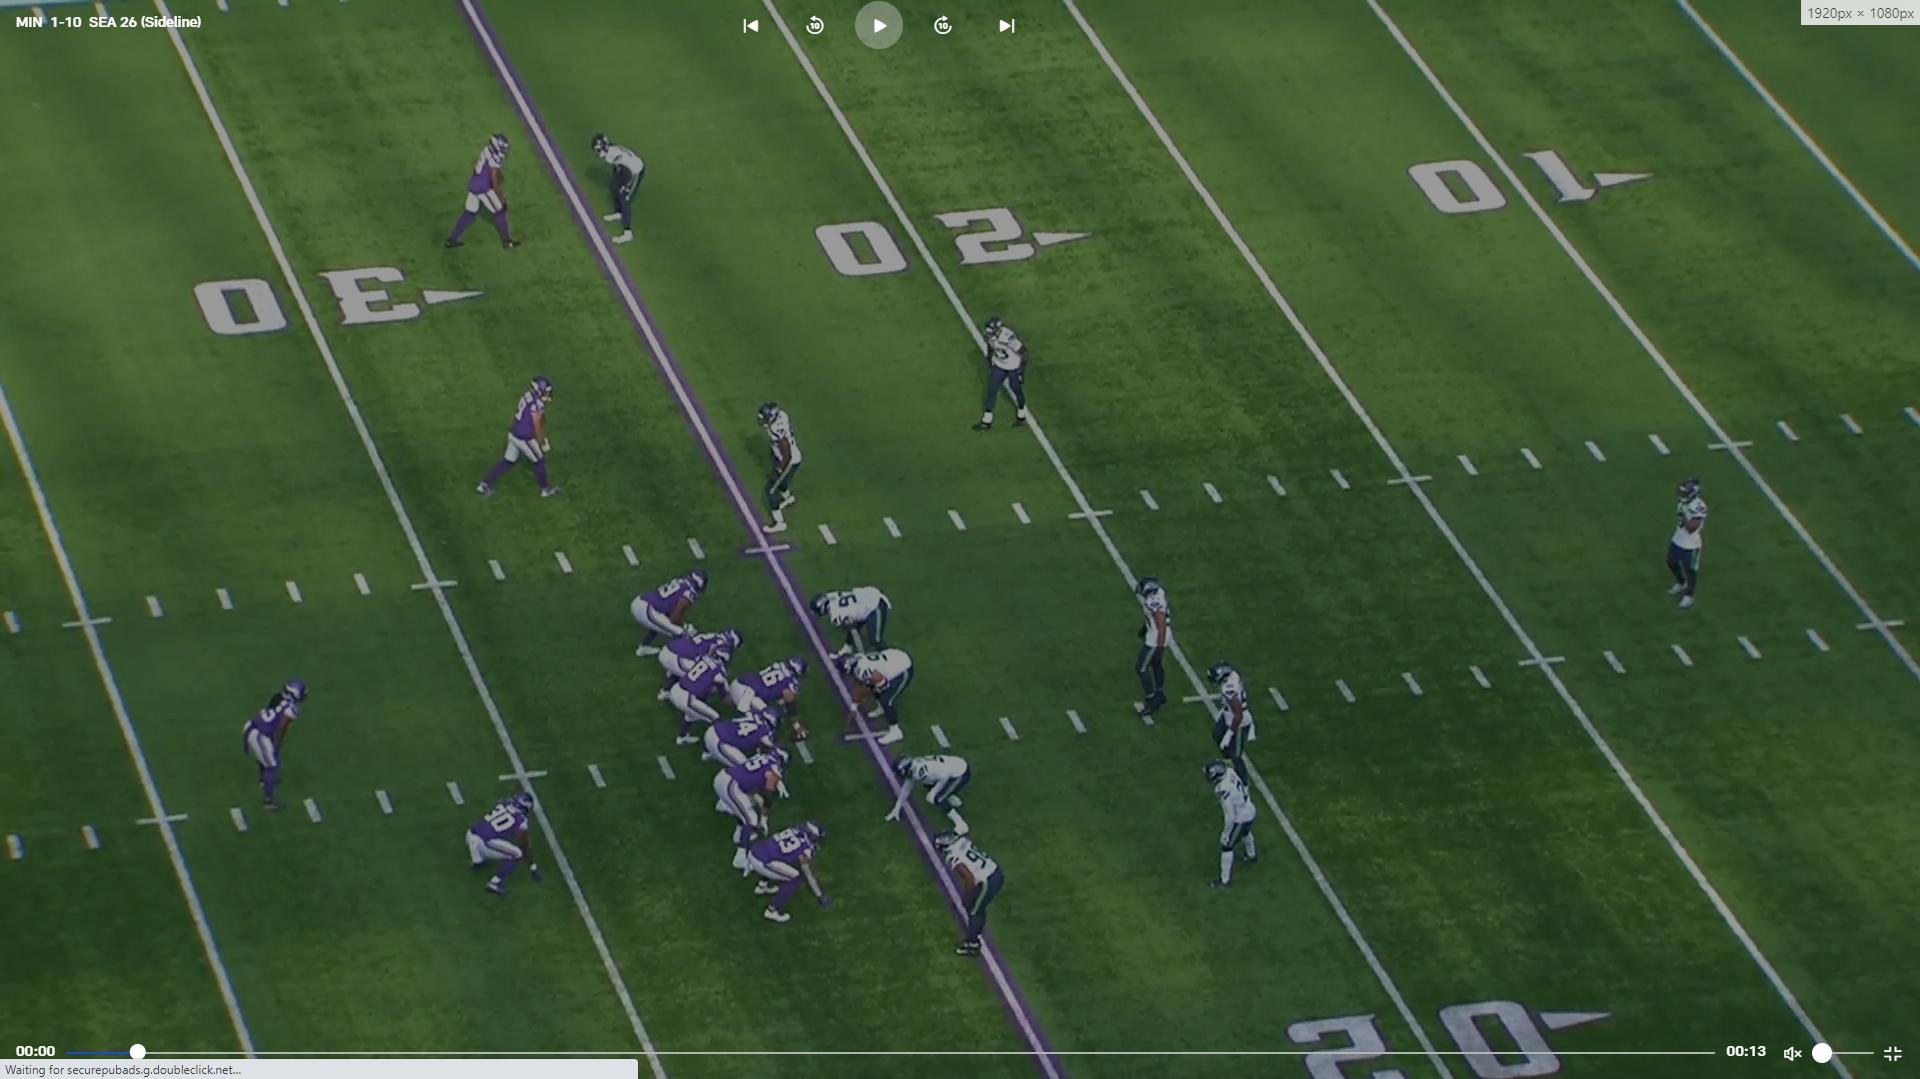player: (474, 369, 568, 508), (713, 742, 797, 875), (439, 129, 525, 258), (737, 820, 827, 932), (236, 677, 309, 811), (941, 831, 1012, 958), (468, 792, 552, 898), (1210, 761, 1269, 898), (826, 651, 910, 745), (1128, 569, 1178, 724), (629, 566, 710, 660), (589, 130, 653, 248), (759, 401, 811, 545), (887, 752, 976, 834), (977, 311, 1036, 433), (806, 582, 897, 657), (738, 661, 816, 748), (672, 655, 741, 752), (656, 622, 743, 697), (1666, 475, 1710, 615), (1213, 661, 1265, 777), (708, 707, 785, 769)
